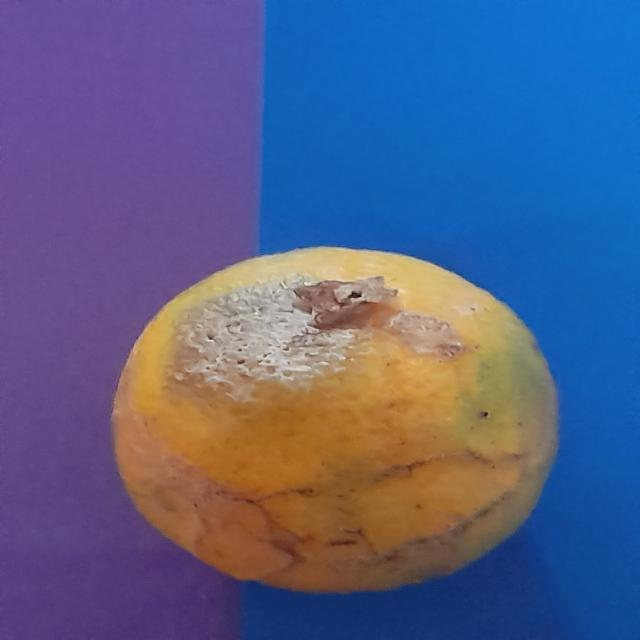thrips: (119, 238, 559, 582)
